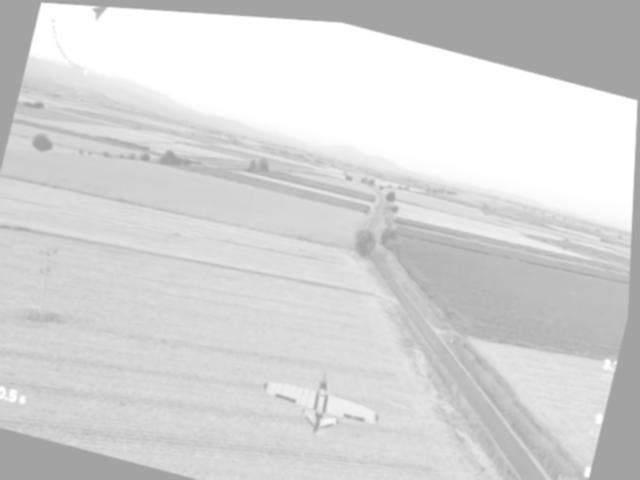hedef: (250, 349, 396, 455)
